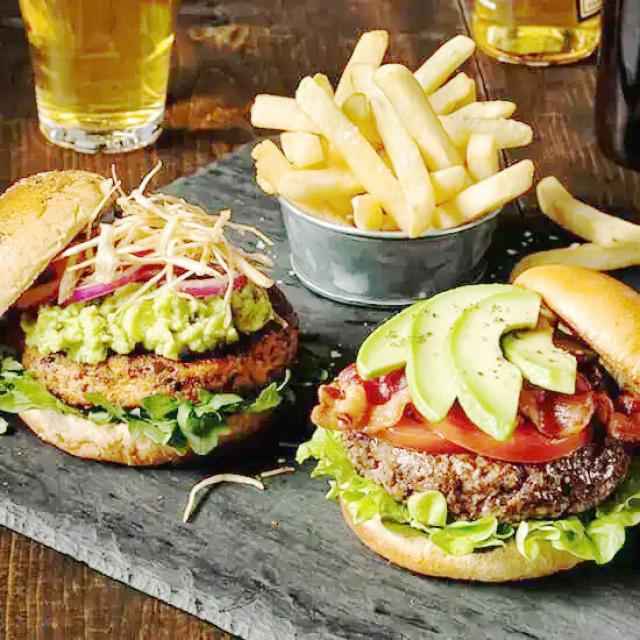burger: (300, 265, 640, 587), (0, 169, 287, 469)
drink: (18, 2, 177, 152)
french fries: (248, 27, 536, 236)
